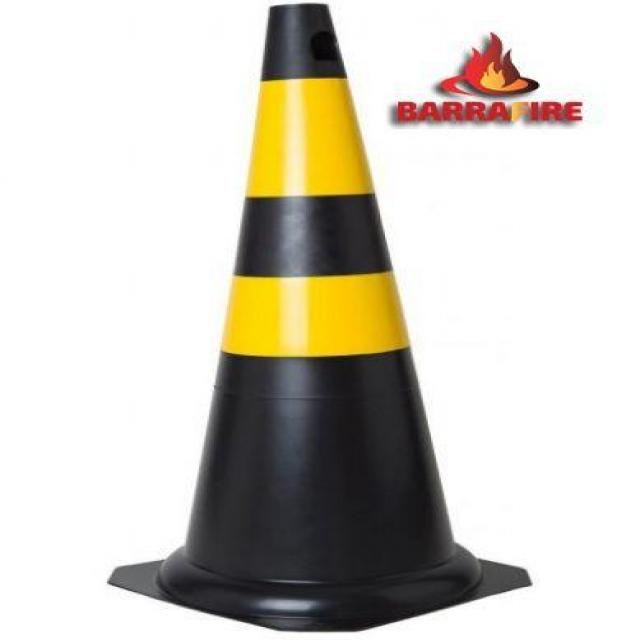cone: (121, 7, 514, 638)
